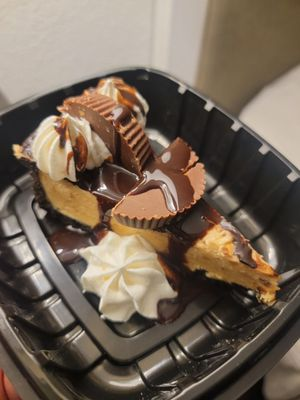sushi: (109, 135, 207, 236), (183, 222, 280, 307)
